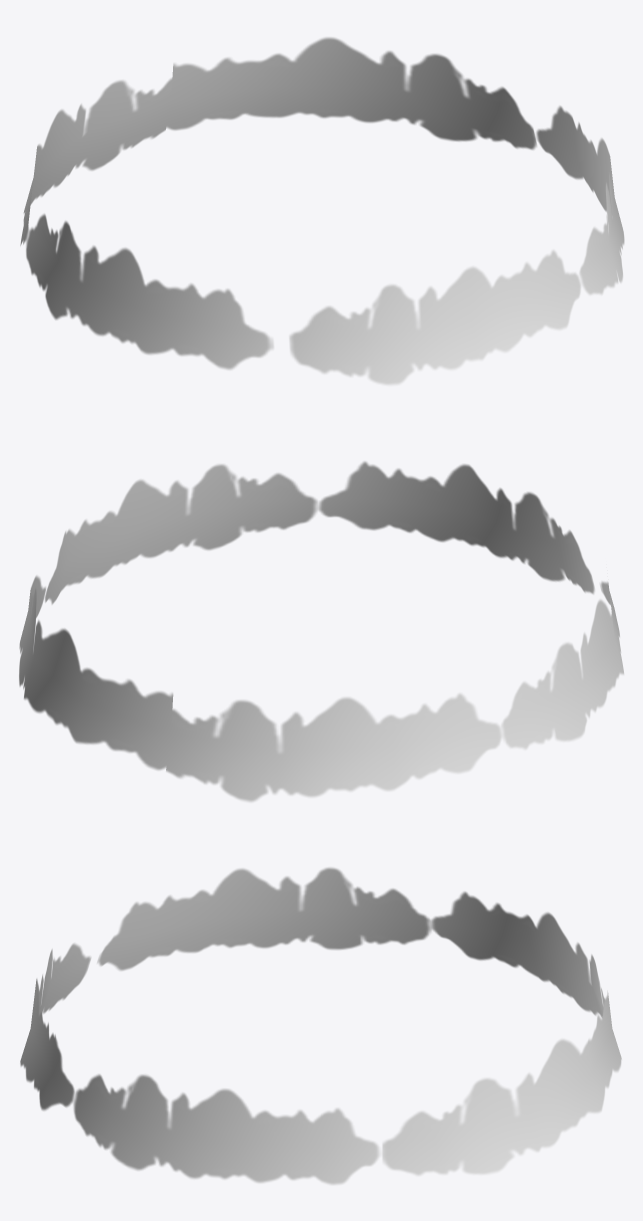
Rendered from water_noisefall_invulnerableVFX.gltf.
The picture shows the model from 3 angles, top to bottom: view 1: azimuth 30°, elevation 25°; view 2: azimuth 150°, elevation 25°; view 3: azimuth 270°, elevation 25°; orthographic projection. The views are drawn at different scales.
Parts seen in each view (by area): view 1: water_noisefall_invulnerableVFX; view 2: water_noisefall_invulnerableVFX; view 3: water_noisefall_invulnerableVFX.
Boxes of the visible parts, x1,y1,x2,y2 form: water_noisefall_invulnerableVFX: (20, 37, 624, 385); water_noisefall_invulnerableVFX: (19, 461, 624, 802); water_noisefall_invulnerableVFX: (20, 867, 621, 1185).
Size of the model in its own units: 2.87 by 0.6703 by 2.97.
Materials: 1 (1 with a texture image).
